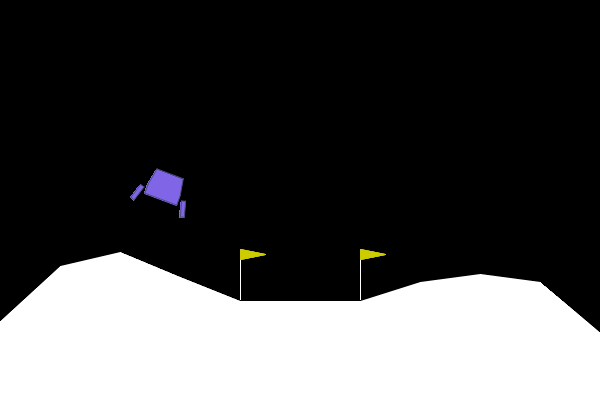lander: (128, 162, 199, 220)
